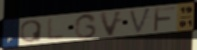F: (152, 5, 178, 33)
G: (73, 13, 98, 40)
L: (45, 17, 66, 42)
Q: (19, 19, 44, 44)
V: (98, 10, 125, 38), (128, 7, 153, 35)
